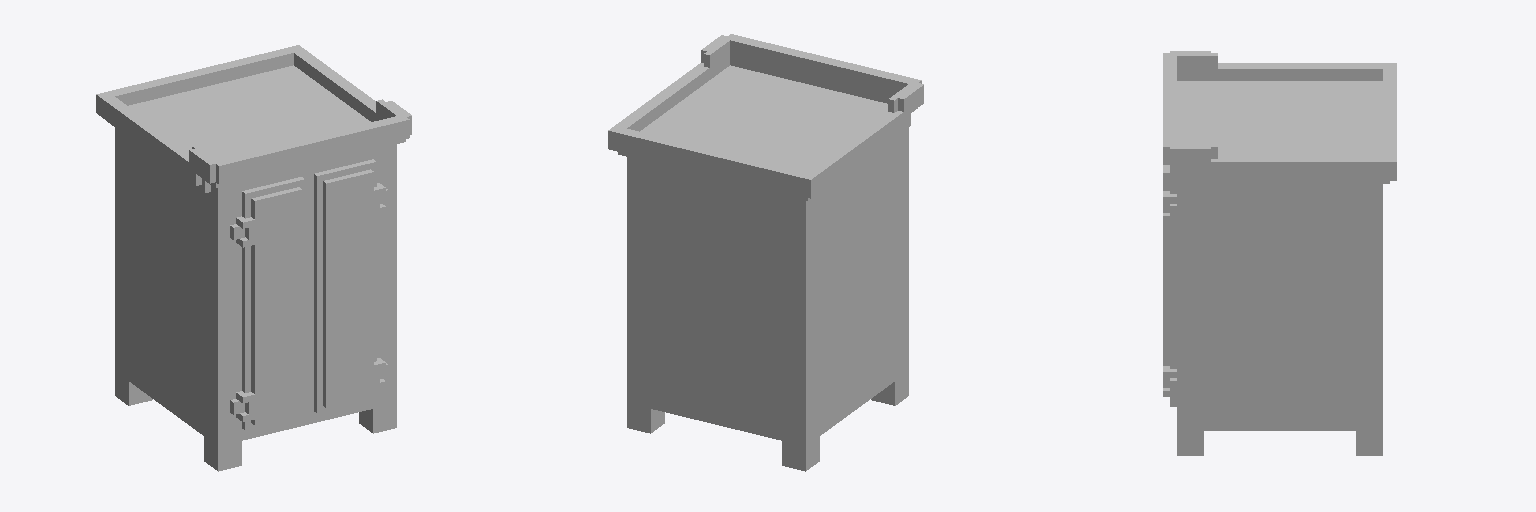
Rendered from cupboard.obj.
3 views of the same model, side by side, from view 1: azimuth 30°, elevation 25°; view 2: azimuth 150°, elevation 25°; view 3: azimuth 270°, elevation 25° (orthographic).
Parts seen in each view (by area): view 1: cupboard; view 2: cupboard; view 3: cupboard.
Boxes of the visible parts, x1,y1,x2,y2 form: cupboard: [96, 45, 411, 471]; cupboard: [608, 34, 923, 471]; cupboard: [1163, 51, 1396, 455].
Size of the model in its own units: 34 by 50 by 34.